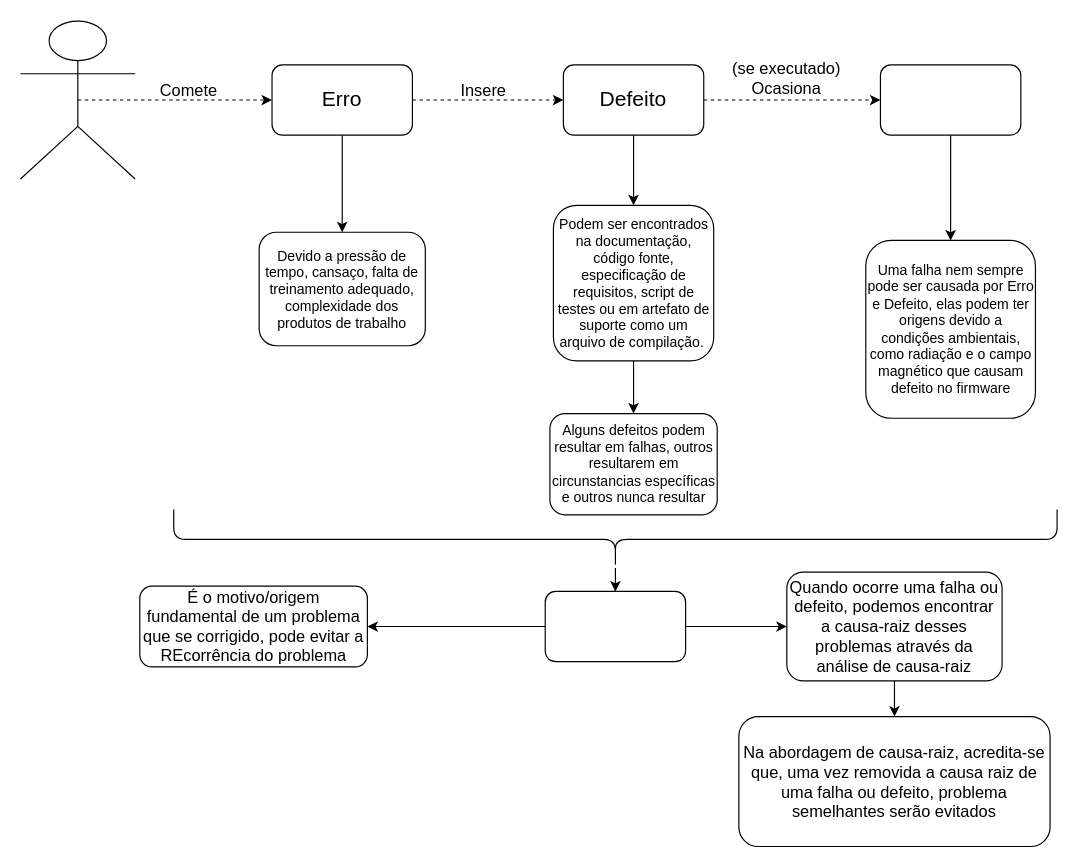
Image size: 1078x867. Some labels were removed from this diagram. The shapes that lost their labels are listed below. From the top down, each one's box as (x1, y1, x2, y2) in pixels, then its label:
(19, 20, 135, 179): O ser humano
(879, 64, 1021, 135): Falha
(544, 590, 686, 662): Causa-raiz
